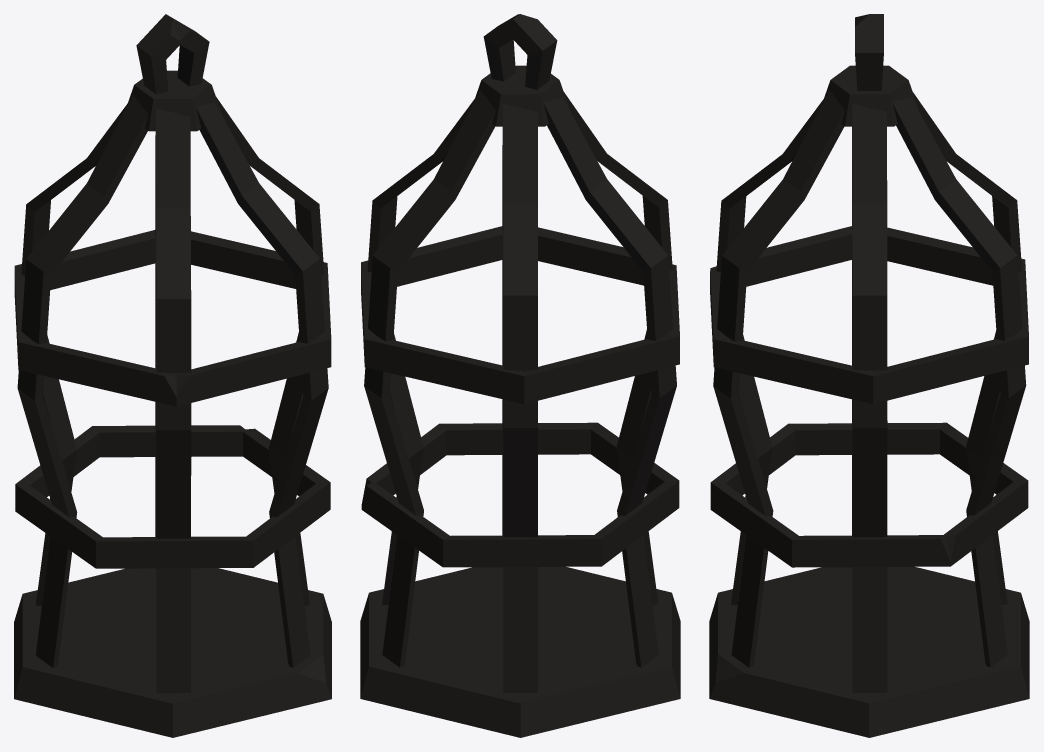
Rendered from Cage.fbx.
The picture shows the model from 3 angles, left to right: view 1: azimuth 30°, elevation 25°; view 2: azimuth 150°, elevation 25°; view 3: azimuth 270°, elevation 25°; orthographic projection.
Visible parts, largest first — view 1: Cage; view 2: Cage; view 3: Cage.
Boxes of the visible parts, x1,y1,x2,y2 form: Cage: [14, 14, 331, 737]; Cage: [360, 14, 680, 737]; Cage: [709, 14, 1029, 737].
Size of the model in its own units: 52.93 by 102 by 45.84.
